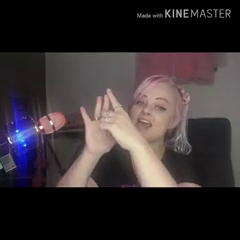J: (76, 86, 141, 158)
